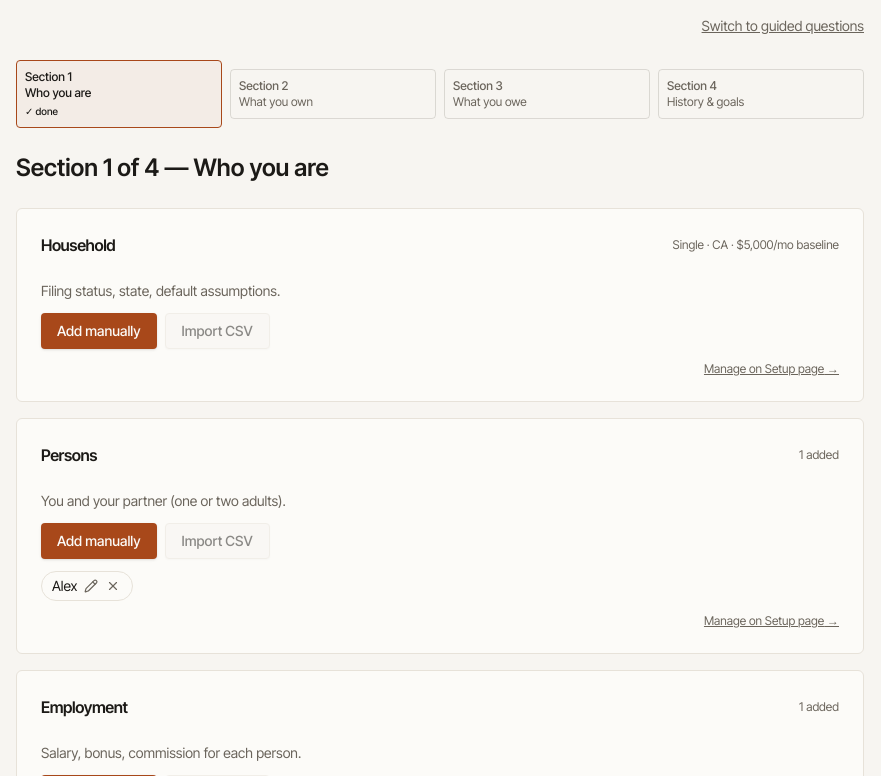
Scenario: SetupWizard route handler › form→flow place-keeping: a form-completed Section 1 resumes the flow at What you own
Expected: the heading "Section 1 of 4 — Who you are" is shown, [16,153,329,182]
Click the button "Switch to guided questions" at (783, 26), box [702,16,864,36]
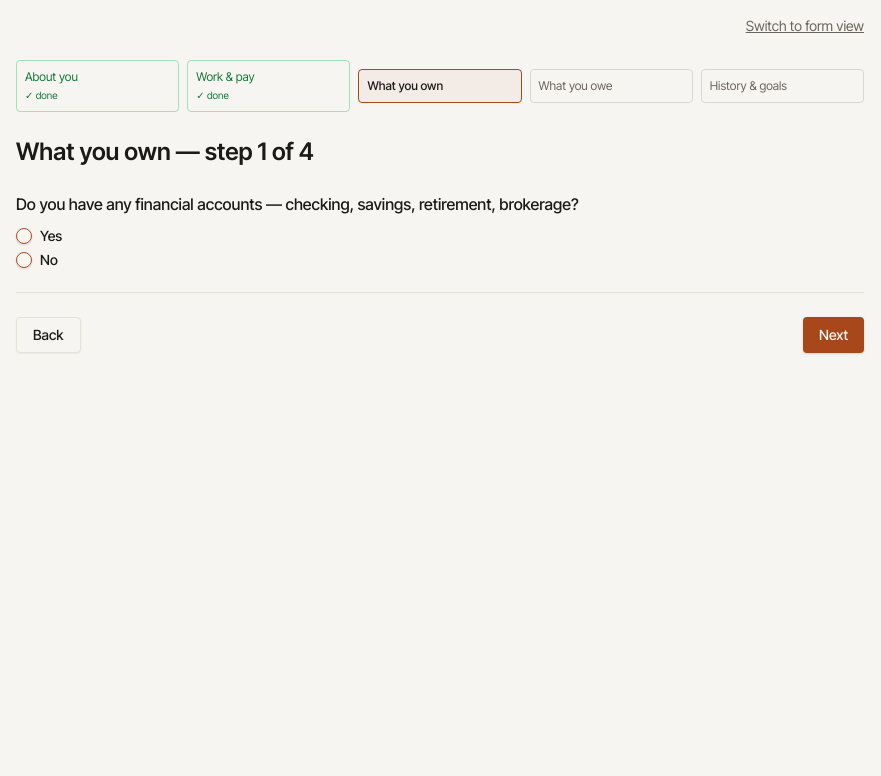
Result: the heading "What you own — step 1 of 4" is shown at [16,137,314,166]
